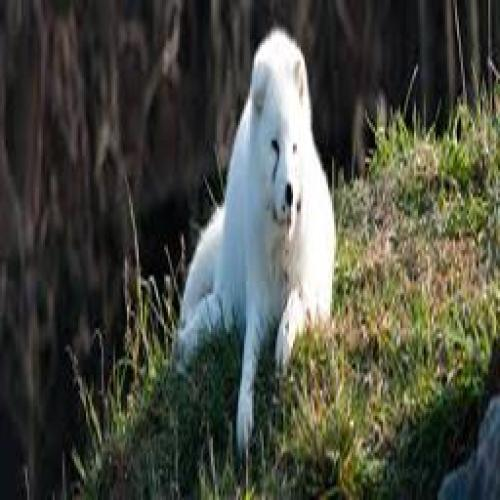arctic_fox-endangered: (168, 34, 334, 458)
